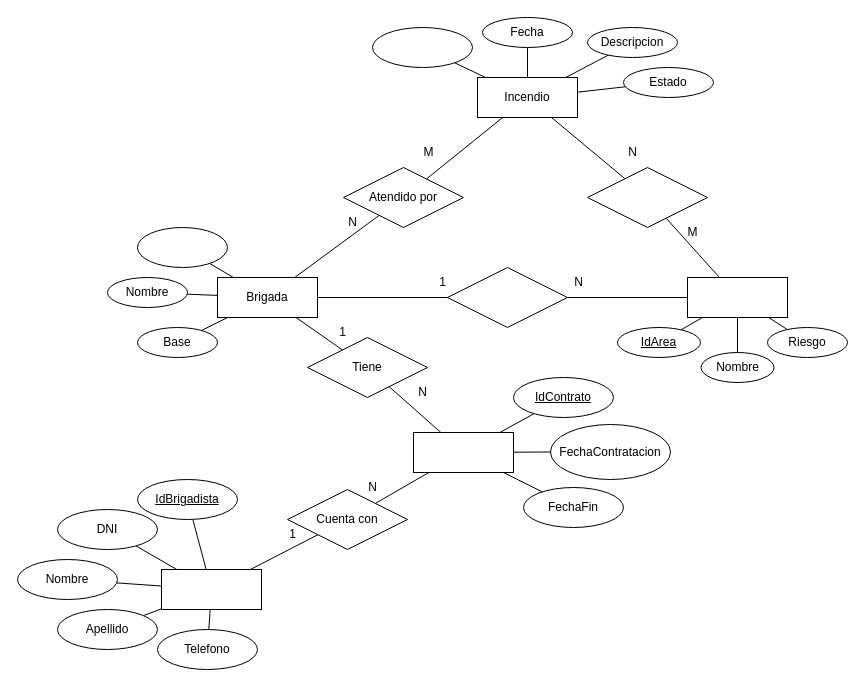
Some shapes in this 865 by 687 pixel diagram are drawn without their labels. The shapes that lost their labels are listed below. From the top down, each one's centre as x and y in pixels, then its label:
point (422, 47): IdIncendio
point (647, 197): Extendido por
point (182, 247): IdBrigada
point (507, 297): Trabaja en
point (737, 297): Area
point (463, 452): Contrato
point (211, 589): Brigadista
